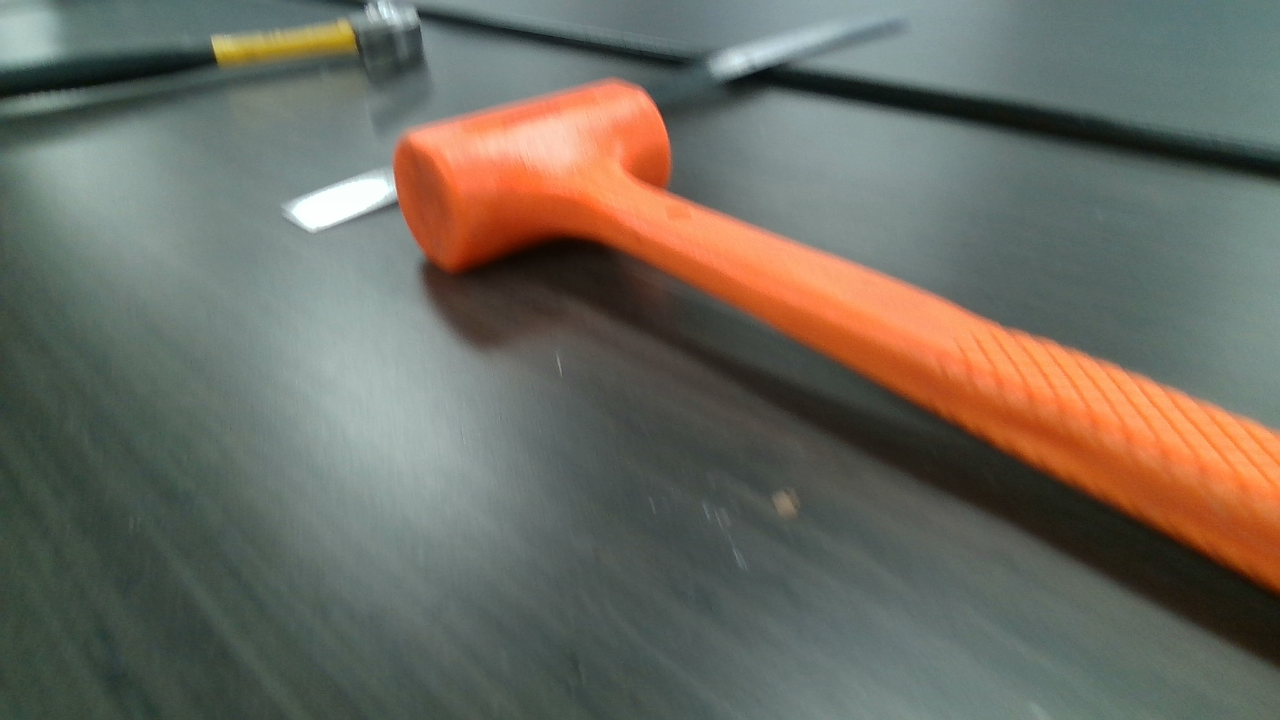Orange Hammer: (398, 78, 1269, 667)
